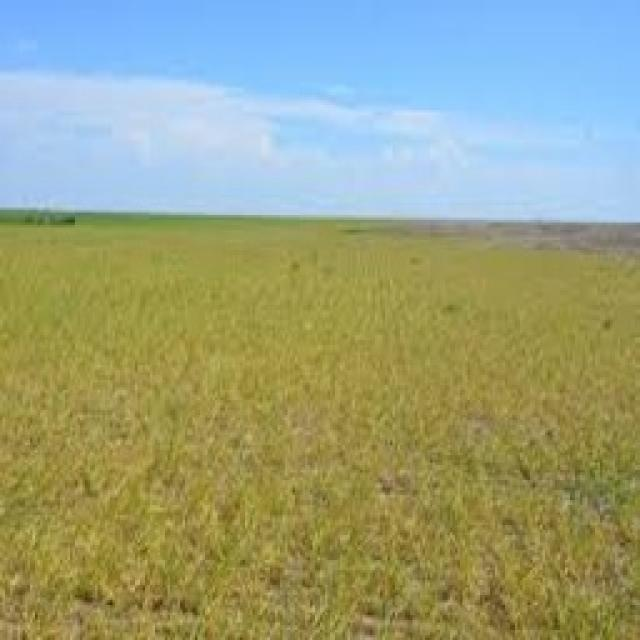Healthy Wheat: (0, 212, 638, 638)
